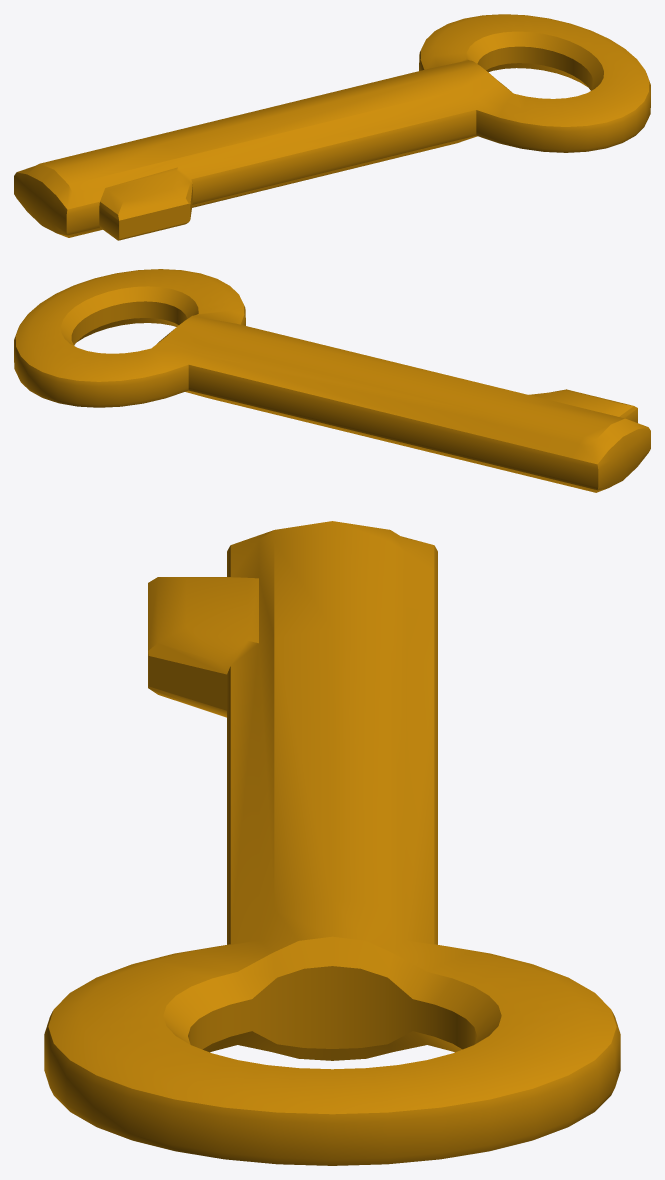
Rendered from key.fbx.
3 renders of one model, top to bottom at view 1: azimuth 30°, elevation 25°; view 2: azimuth 150°, elevation 25°; view 3: azimuth 270°, elevation 25°, orthographic. The views are drawn at different scales.
Parts seen in each view (by area): view 1: Circle; view 2: Circle; view 3: Circle.
Boxes of the visible parts, bbox=[...] form: Circle: bbox=[14, 14, 650, 240]; Circle: bbox=[14, 269, 650, 492]; Circle: bbox=[44, 521, 620, 1165].
Bounding box in the file's own units: 622 × 62.82 × 264.
